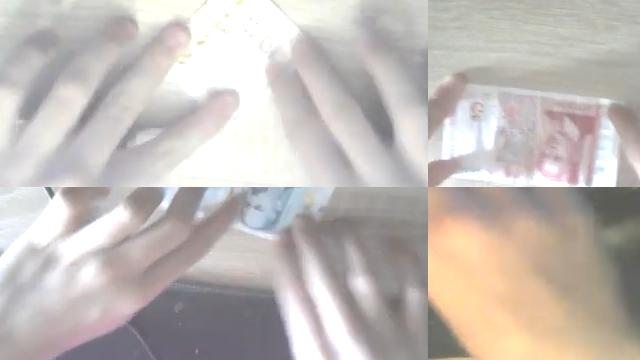10leva: (428, 187, 631, 360), (168, 0, 303, 127)
20leva: (238, 187, 317, 238)
5leva: (498, 95, 600, 186), (511, 97, 598, 185)
